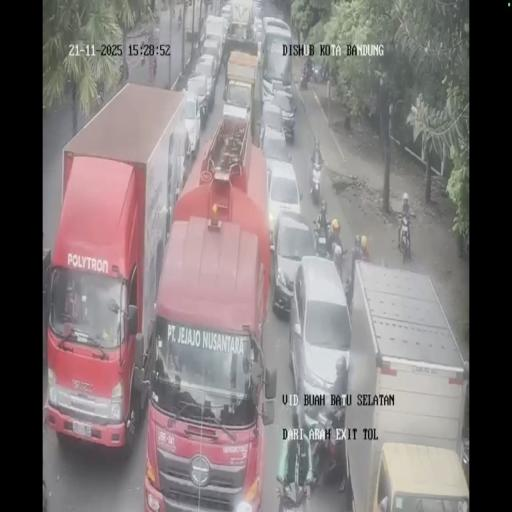3: (340, 261, 467, 512)
car: (271, 208, 317, 316), (258, 100, 290, 158), (185, 73, 210, 131), (200, 37, 221, 85), (262, 16, 291, 50), (266, 78, 293, 110), (252, 15, 264, 49), (220, 3, 232, 32)
truck: (313, 220, 332, 260), (398, 213, 413, 263), (309, 155, 323, 203), (334, 243, 348, 284), (299, 71, 309, 90), (177, 13, 181, 29)
